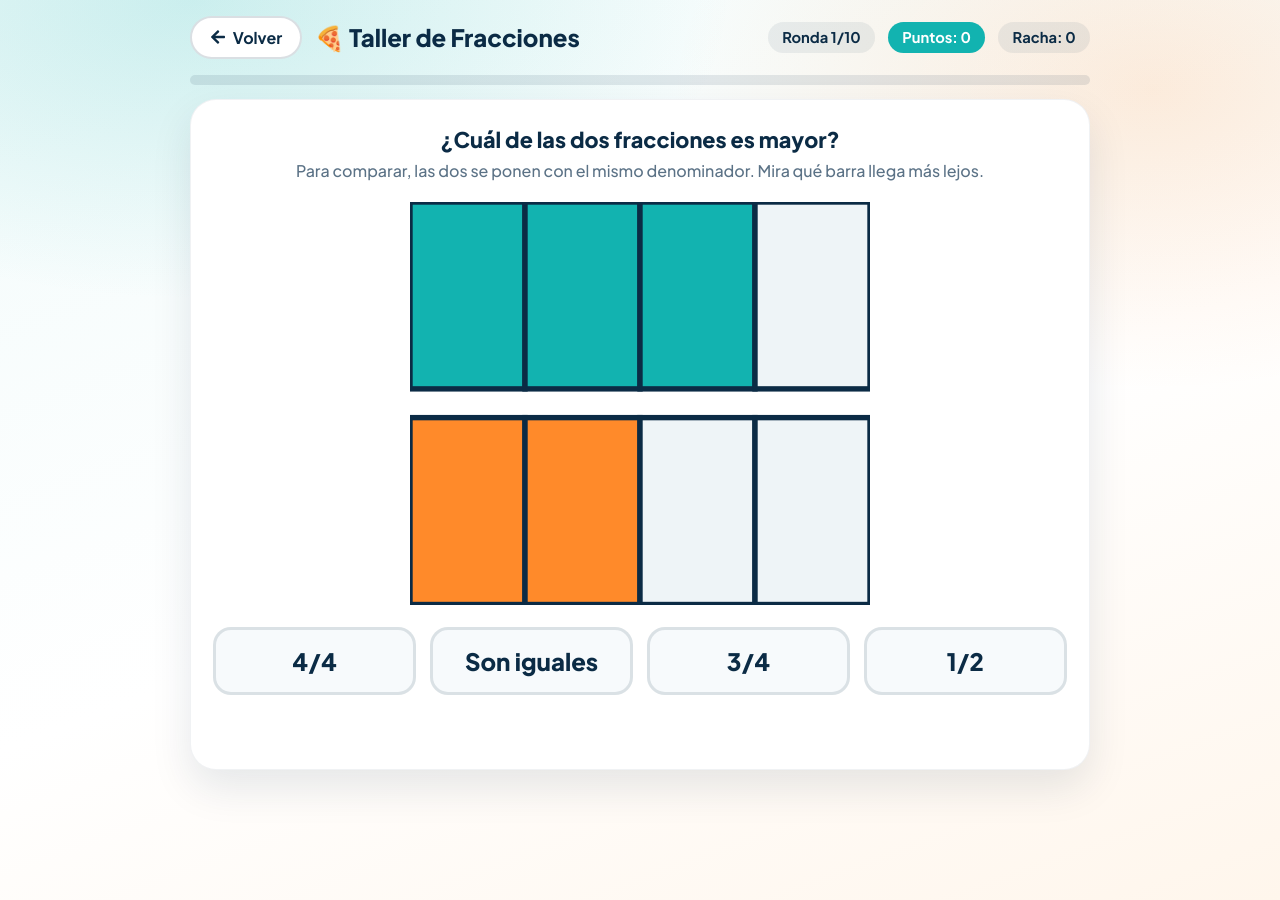
Taller de Fracciones › al responder enseña el acierto o el fallo con su explicación
The image size is (1280, 900).
Step 1. Click the button "4/4" → (315, 661), box [213,627,416,695]
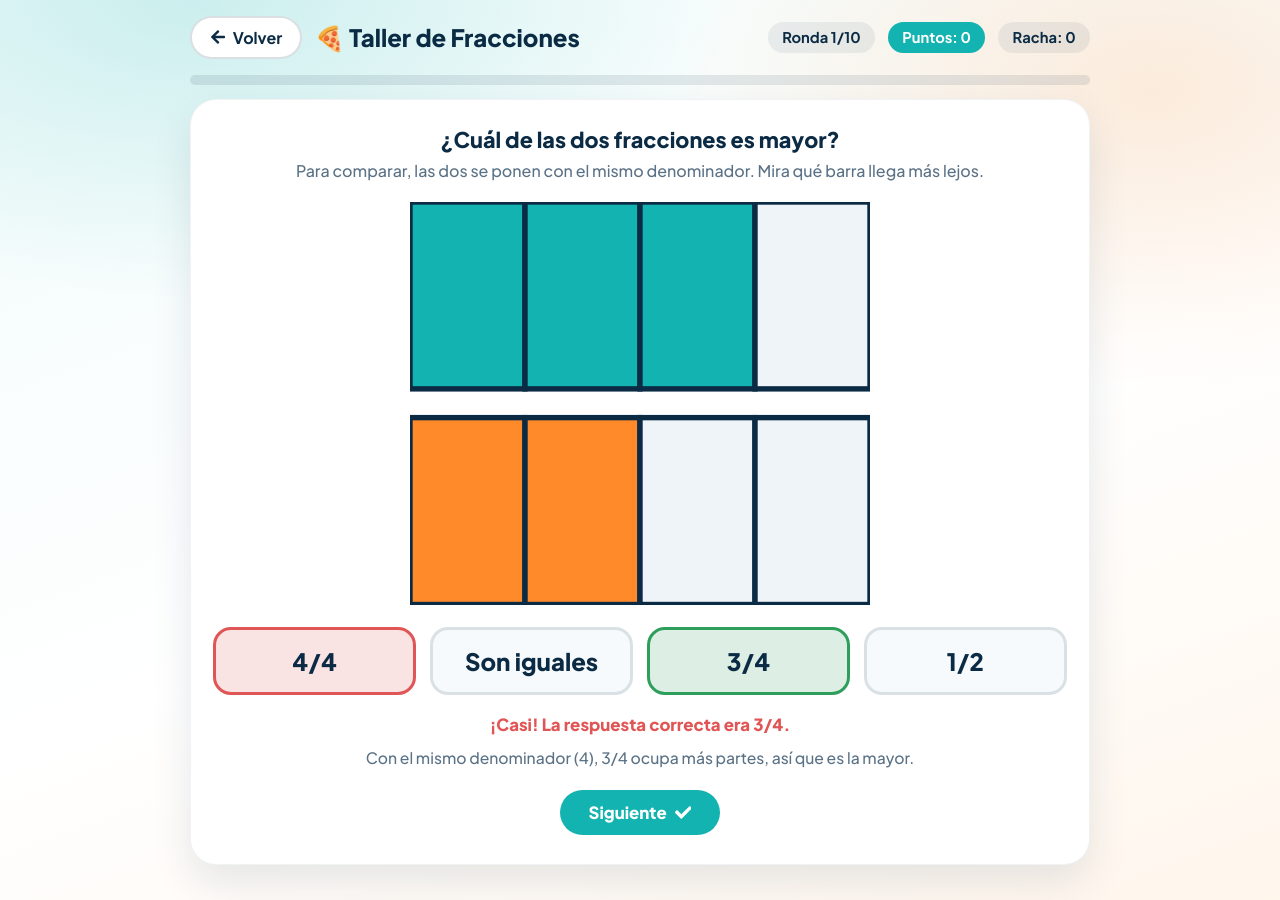
Expected: the text "¡Casi! La respuesta correcta era 3/4." is shown, [490,714,790,735]
Expected: the button "Siguiente" is shown, [560,790,720,835]
